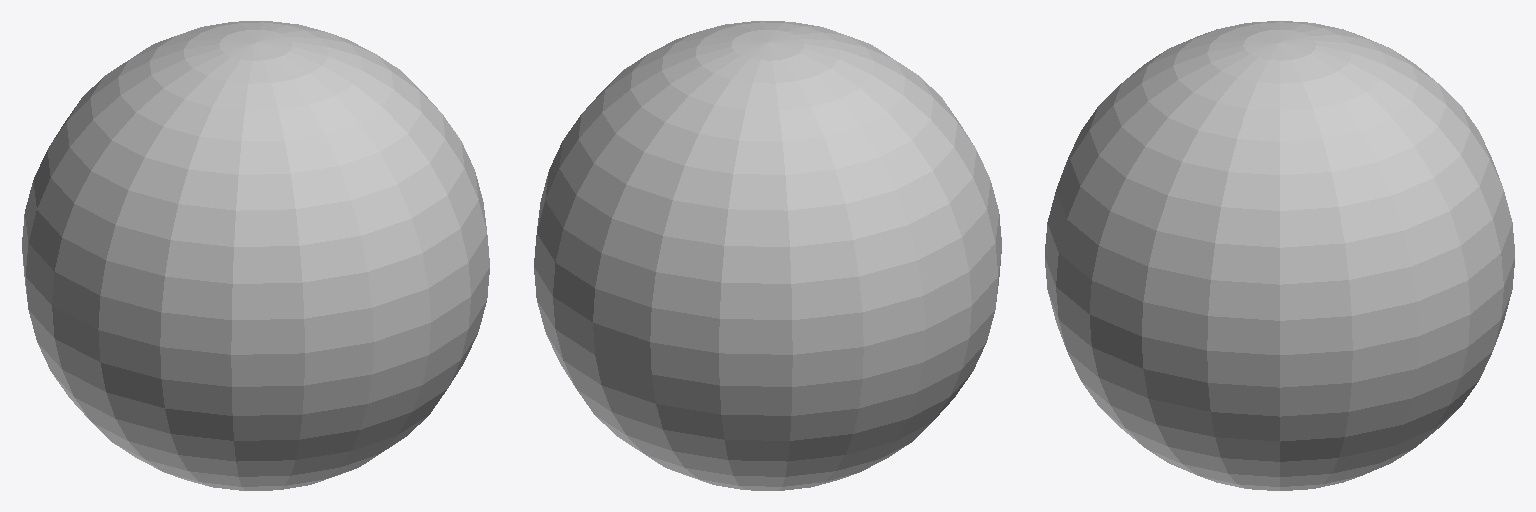
The model's file is player_Larn_joint.obj.
The picture shows the model from 3 angles: view 1: azimuth 30°, elevation 25°; view 2: azimuth 150°, elevation 25°; view 3: azimuth 270°, elevation 25°; orthographic projection.
Visible parts, largest first — view 1: pSphere4; view 2: pSphere4; view 3: pSphere4.
Boxes of the visible parts, x1,y1,x2,y2 form: pSphere4: [22, 21, 489, 490]; pSphere4: [534, 21, 1001, 490]; pSphere4: [1045, 21, 1514, 490].
Size of the model in its own units: 0.3834 by 0.3834 by 0.3834.